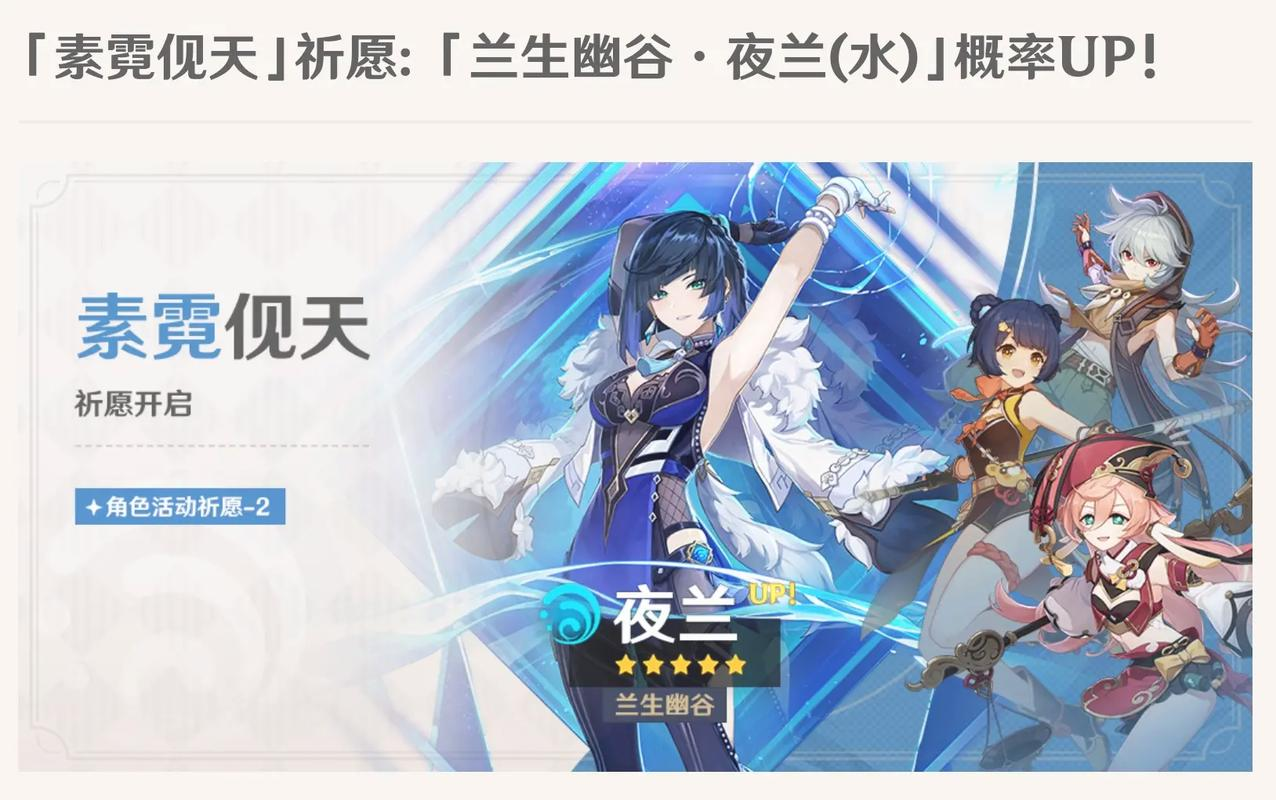夜兰: (540, 173, 895, 768)
